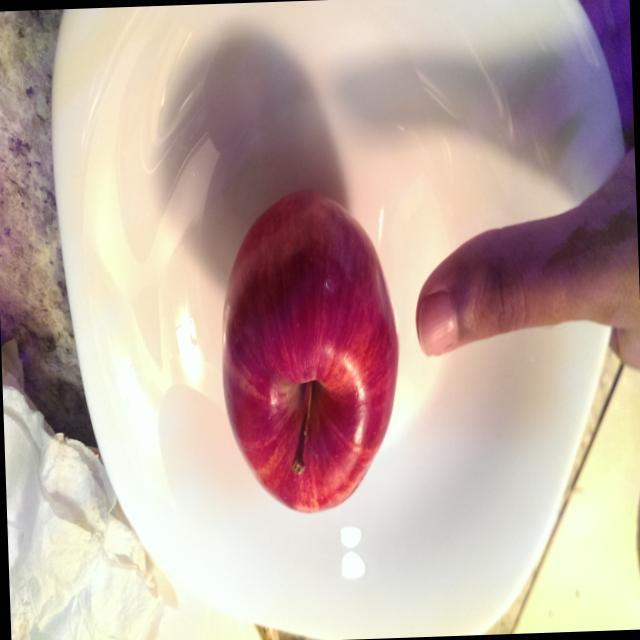Apple: (208, 178, 410, 526)
Finger: (409, 212, 549, 360)
